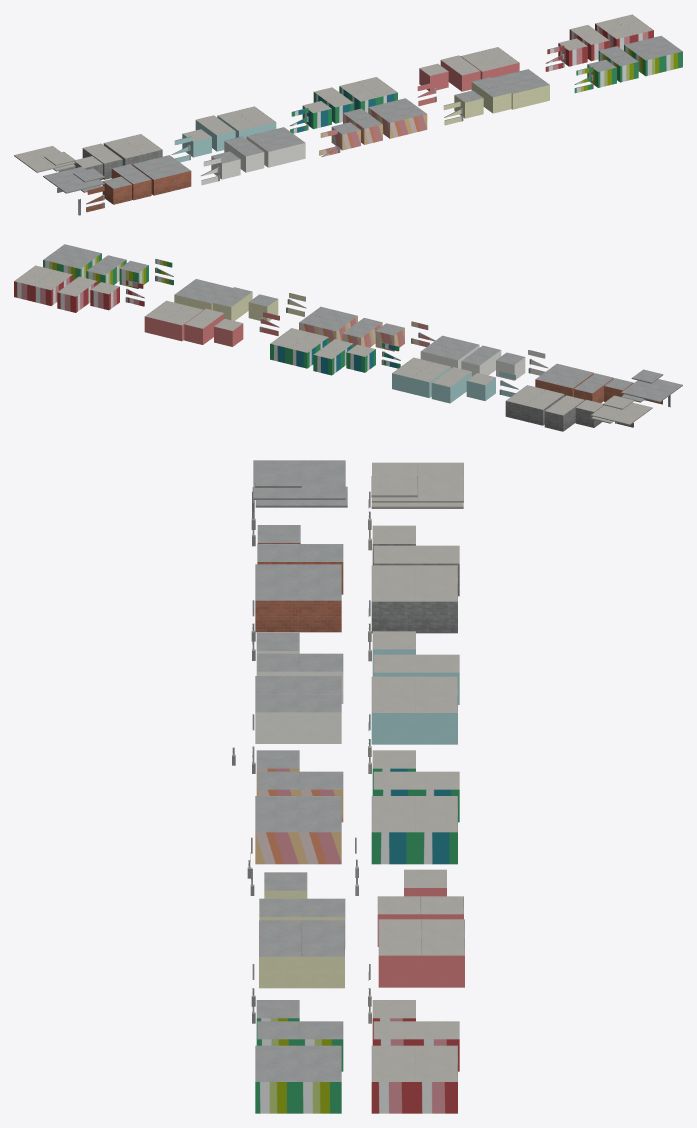
Rendered from casa_mod.fbx.
3 renders of one model, top to bottom at view 1: azimuth 30°, elevation 25°; view 2: azimuth 150°, elevation 25°; view 3: azimuth 270°, elevation 25°, orthographic. The views are drawn at different scales.
Visible parts, largest first — view 1: Cube.026, Cube.003, Cube.037, Cube.050, Cube.014, Cube.000, Cube.025, Cube.013, Cube.036, Cube.049, Cube.016, Cube.040 (+20 smaller); view 2: Cube.025, Cube.000, Cube.049, Cube.036, Cube.013, Cube.026, Cube.003, Cube.037, Cube.050, Cube.014, Cube.039, Cube.002 (+20 smaller); view 3: Cube.026, Cube.013, Cube.003, Cube.050, Cube.036, Cube.025, Cube.000, Cube.014, Cube.049, Cube.037, Cube.061, Cube.064 (+21 smaller).
Part boxes in pixels (bbox=[...]): Cube.026: bbox=[368, 98, 427, 138]; Cube.003: bbox=[624, 35, 682, 76]; Cube.037: bbox=[246, 127, 305, 167]; Cube.050: bbox=[132, 155, 191, 195]; Cube.014: bbox=[491, 69, 549, 109]; Cube.000: bbox=[595, 14, 653, 50]; Cube.025: bbox=[339, 77, 397, 113]; Cube.013: bbox=[460, 47, 519, 79]; Cube.036: bbox=[217, 106, 276, 138]; Cube.049: bbox=[103, 134, 162, 165]; Cube.016: bbox=[471, 77, 511, 113]; Cube.040: bbox=[224, 136, 264, 172]; Cube.025: bbox=[270, 328, 328, 368]; Cube.000: bbox=[14, 265, 72, 305]; Cube.049: bbox=[505, 385, 564, 425]; Cube.036: bbox=[392, 357, 450, 397]; Cube.013: bbox=[144, 300, 203, 341]; Cube.026: bbox=[299, 306, 357, 342]; Cube.003: bbox=[43, 244, 101, 280]; Cube.037: bbox=[420, 335, 479, 368]; Cube.050: bbox=[535, 363, 594, 396]; Cube.014: bbox=[174, 279, 232, 309]; Cube.039: bbox=[431, 367, 471, 403]; Cube.002: bbox=[57, 276, 97, 312]; Cube.026: bbox=[255, 796, 341, 864]; Cube.013: bbox=[378, 919, 464, 987]; Cube.003: bbox=[255, 1045, 341, 1113]; Cube.050: bbox=[255, 564, 341, 632]; Cube.036: bbox=[371, 676, 457, 744]; Cube.025: bbox=[371, 796, 457, 864]; Cube.000: bbox=[371, 1045, 457, 1113]; Cube.014: bbox=[259, 920, 344, 988]; Cube.049: bbox=[371, 565, 457, 633]; Cube.037: bbox=[255, 676, 341, 743]; Cube.061: bbox=[372, 462, 463, 502]; Cube.064: bbox=[253, 460, 345, 499].
Size of the model in its own units: 13241 by 686 by 2163.
